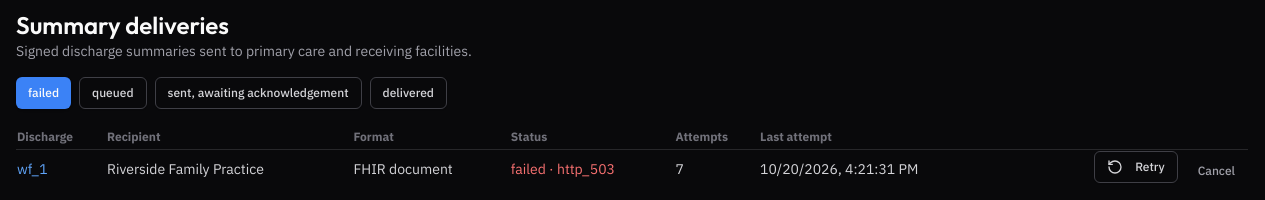
Test case: DeliveriesView › lists failed deliveries and retries one
The width and height of the screenshot is (1265, 200).
Expected: the row with test id "delivery-row" shows "Riverside Family Practice", x1=107 y1=160 x2=264 y2=178
Expected: the row with test id "delivery-row" shows "FHIR document", x1=354 y1=160 x2=453 y2=178
What coordinates should you click on to do the following:
click the button "Retry"
I would click on:
 (1136, 167)
Its box is x1=1094 y1=151 x2=1178 y2=183.
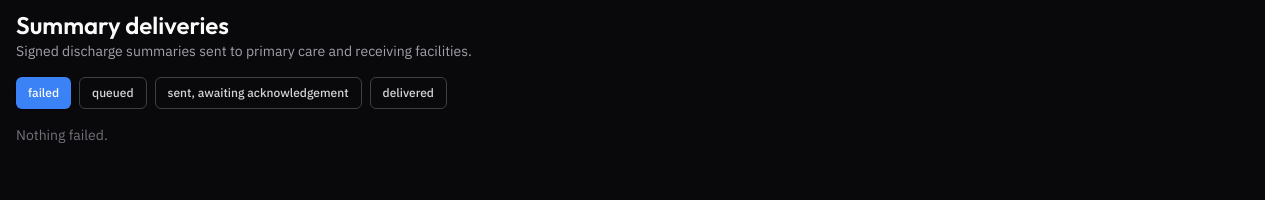
Expected: the text "Nothing failed." is shown, x1=16 y1=126 x2=108 y2=144
